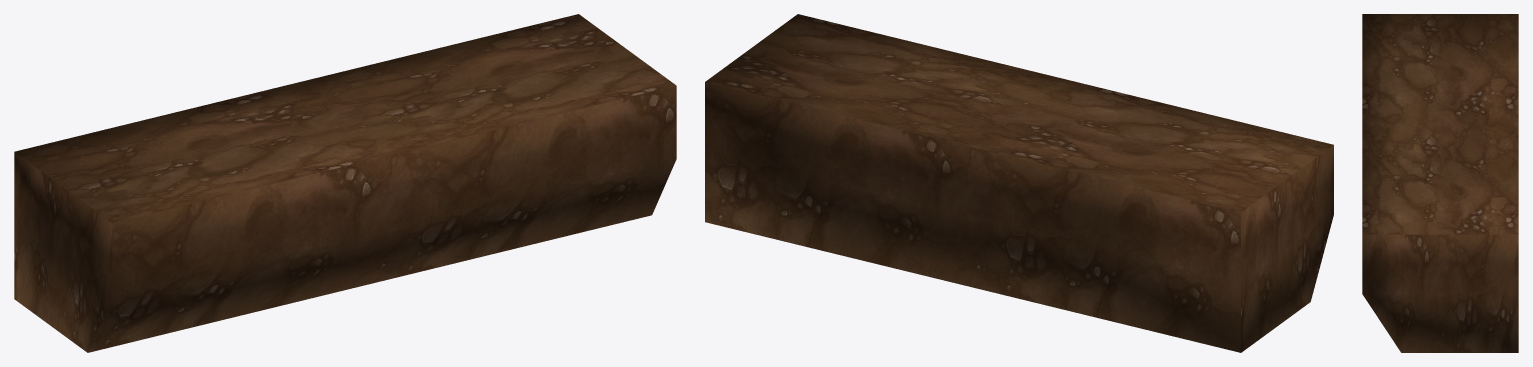
3 views of the same model, side by side, from view 1: azimuth 30°, elevation 25°; view 2: azimuth 150°, elevation 25°; view 3: azimuth 270°, elevation 25° (orthographic). The views are drawn at different scales.
Visible parts, largest first — view 1: Box001; view 2: Box001; view 3: Box001.
Part boxes in pixels (x1,y1,x2,y2): Box001: [14, 14, 676, 352]; Box001: [705, 14, 1333, 352]; Box001: [1362, 14, 1518, 352].
Size of the model in its own units: 500 by 125 by 150.
1 material, 1 textured.
